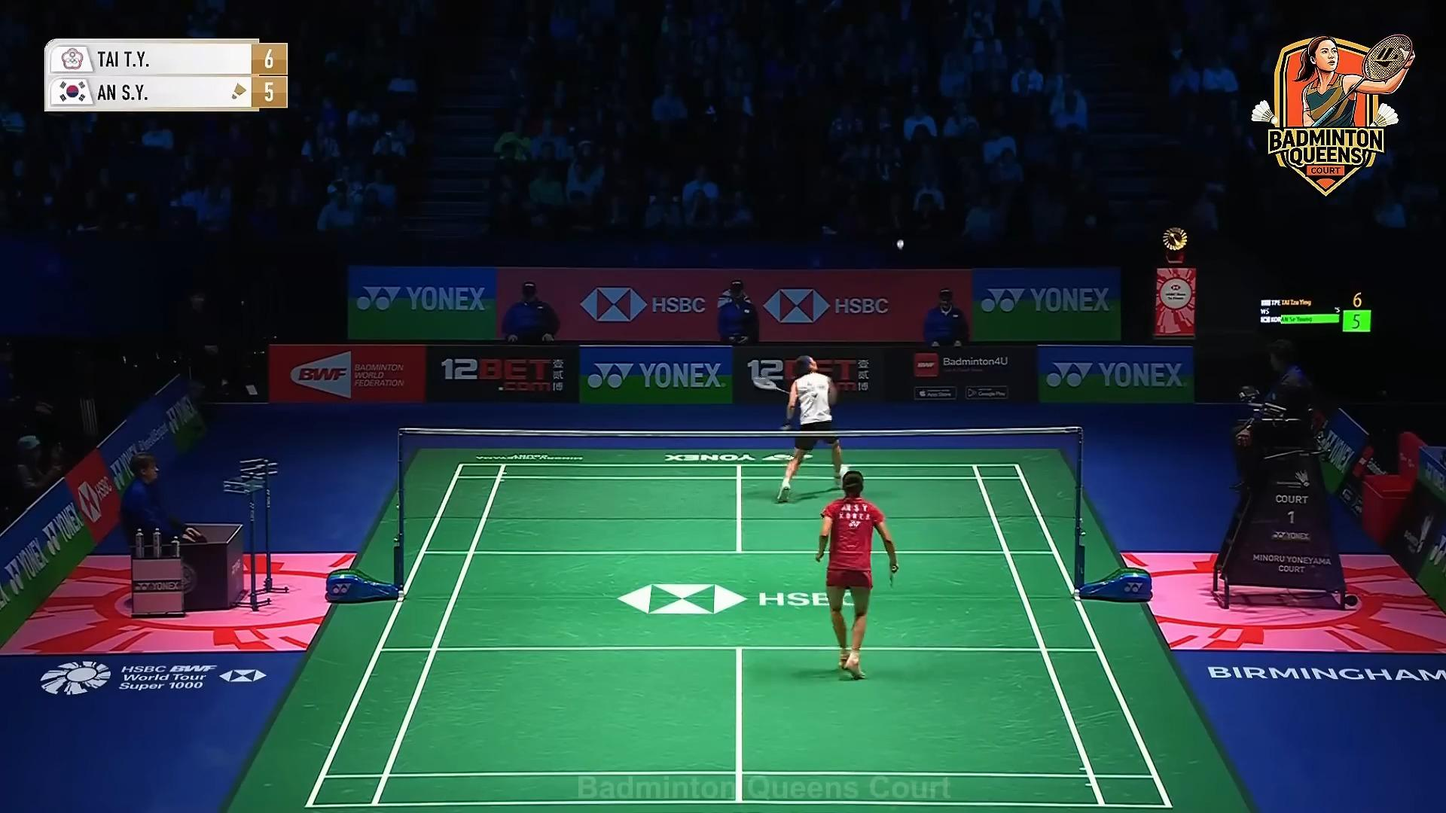shuttlecock: (896, 239, 905, 250)
